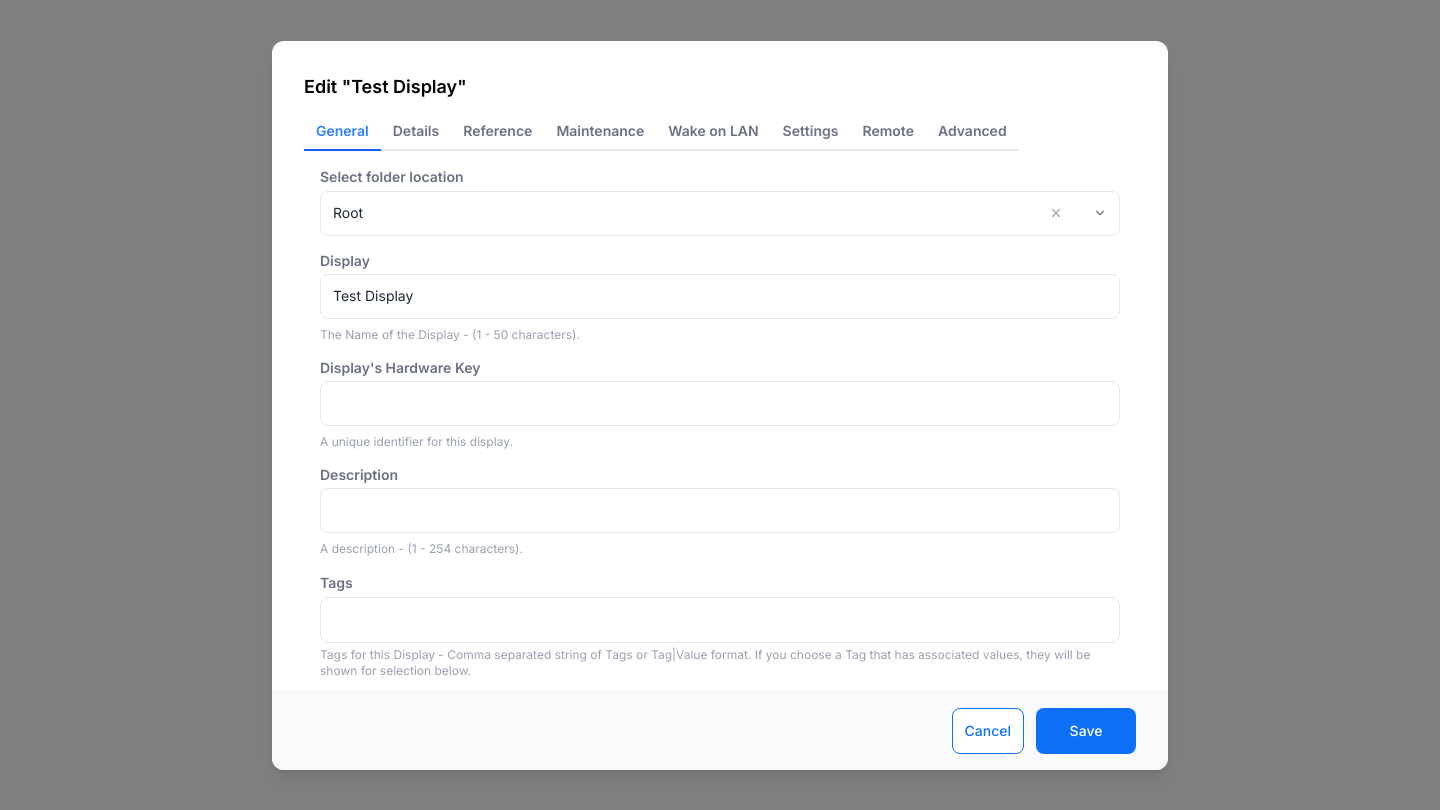
Scenario: Display - edit form: Maintenance tab › alert timeout checkbox reflects the existing value
expect the dialog "Edit" is shown: met, box [272, 40, 1168, 770]
Click the tab "Maintenance". click: (600, 132)
box: [544, 112, 656, 150]
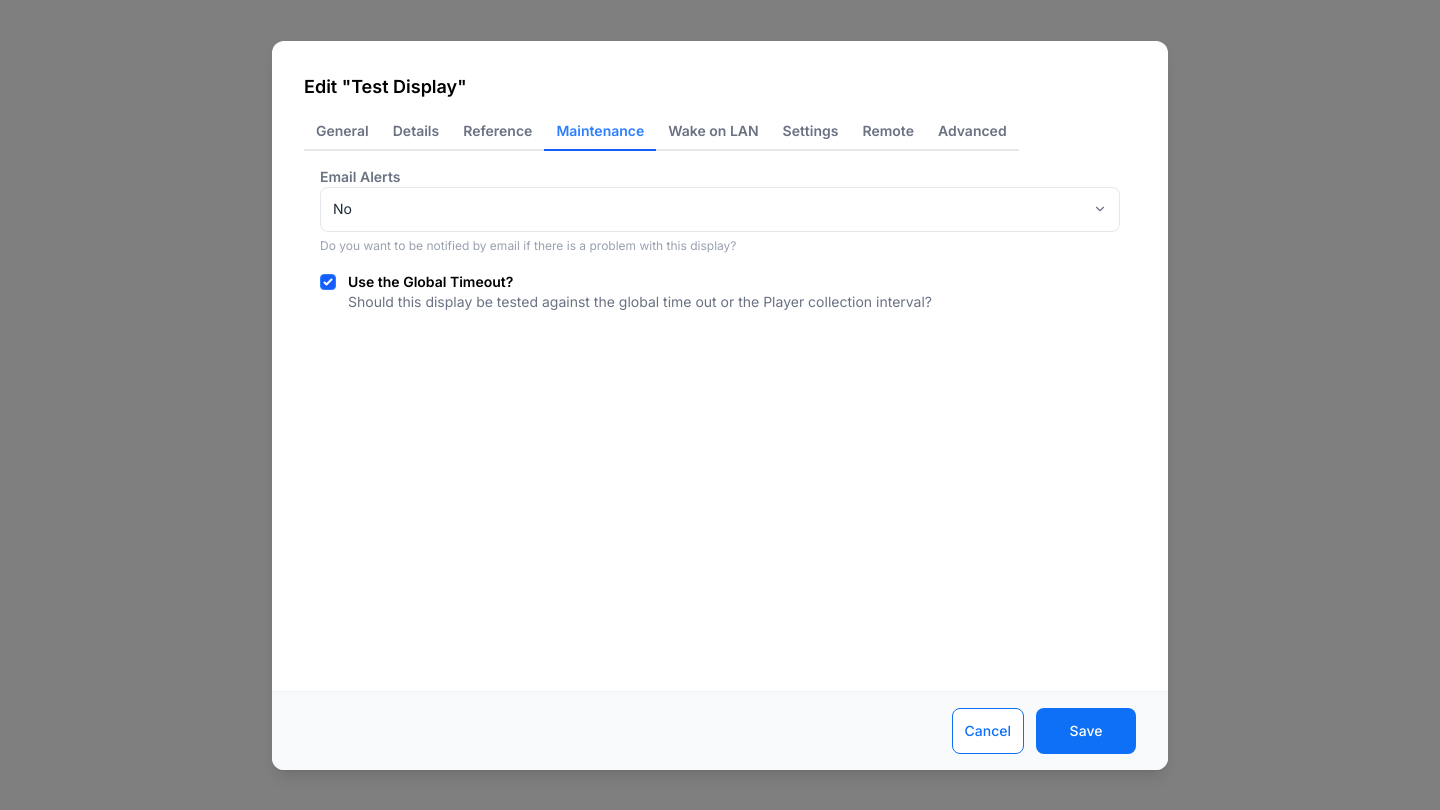
expect the checkbox named "use the global timeout" is checked: met, box [320, 274, 336, 290]
